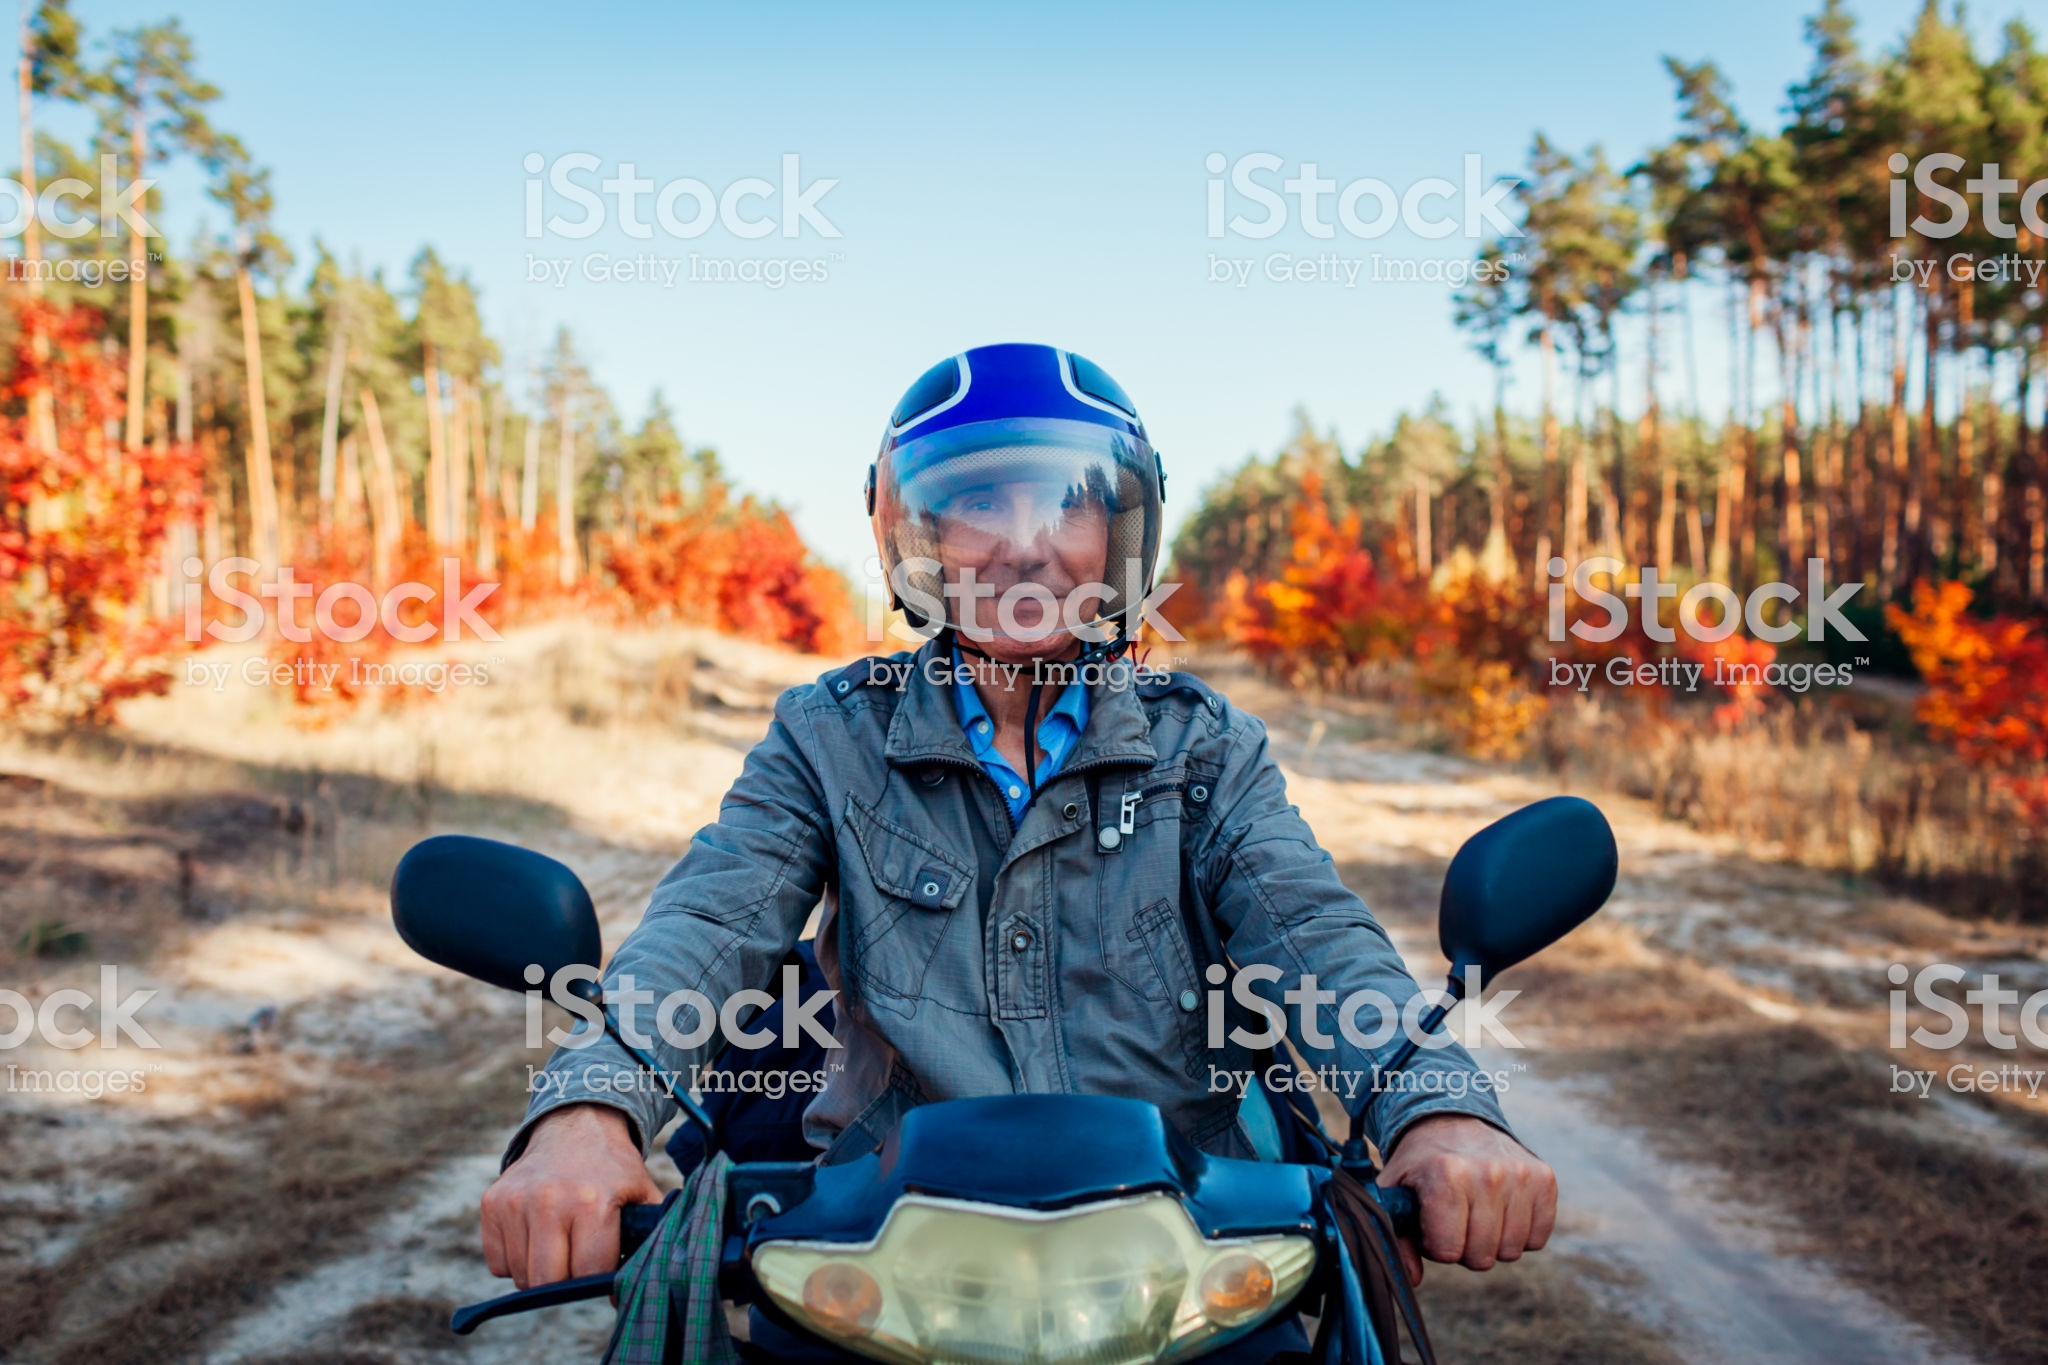helmet: (877, 346, 1226, 652)
